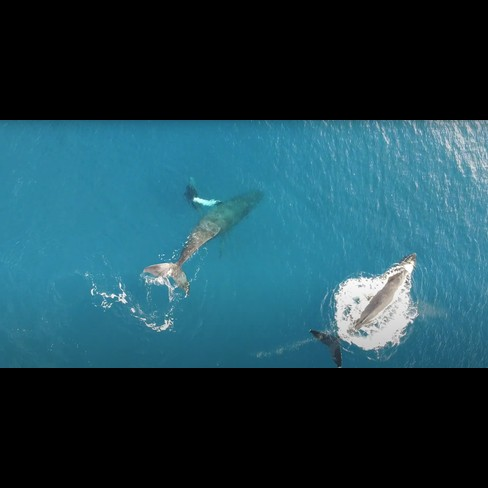hump: (136, 172, 276, 303), (307, 249, 421, 367)
